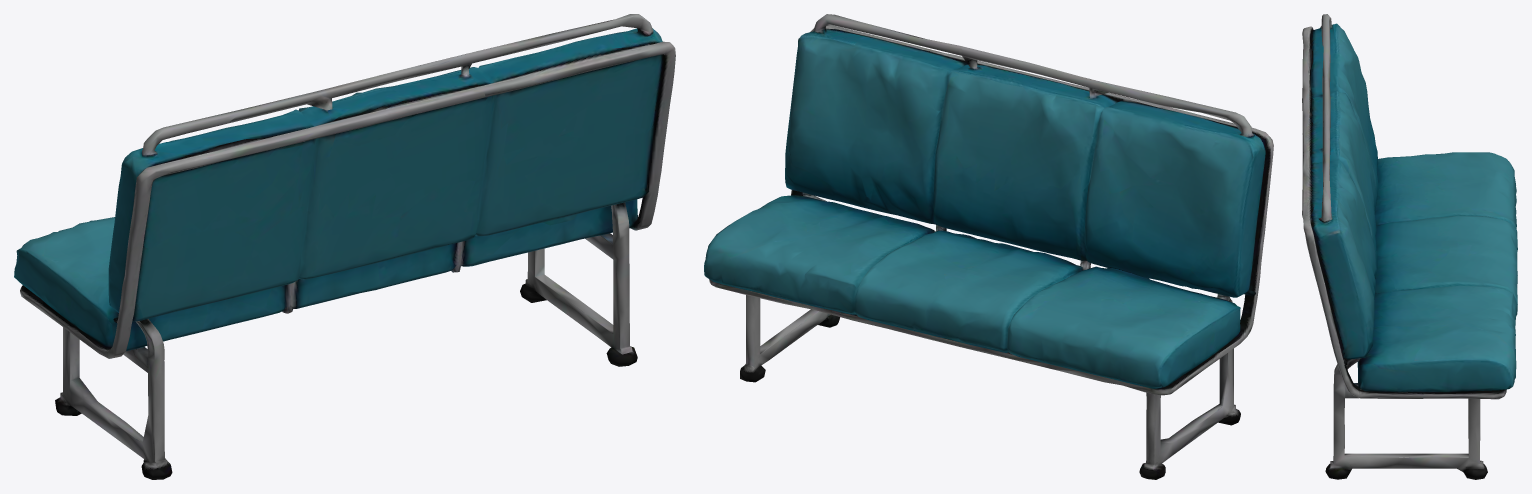
The model's file is bus-seat.glb.
3 views of the same model, side by side, from view 1: azimuth 30°, elevation 25°; view 2: azimuth 150°, elevation 25°; view 3: azimuth 270°, elevation 25° (orthographic). The views are drawn at different scales.
Visible parts, largest first — view 1: tripo_node_4724bb8e-1861-4951-a9c8-d7d13eced73b; view 2: tripo_node_4724bb8e-1861-4951-a9c8-d7d13eced73b; view 3: tripo_node_4724bb8e-1861-4951-a9c8-d7d13eced73b.
Boxes of the visible parts, <box> form: tripo_node_4724bb8e-1861-4951-a9c8-d7d13eced73b: <box>14,14,675,479</box>; tripo_node_4724bb8e-1861-4951-a9c8-d7d13eced73b: <box>704,14,1273,479</box>; tripo_node_4724bb8e-1861-4951-a9c8-d7d13eced73b: <box>1302,14,1517,479</box>.
Size of the model in its own units: 1 by 0.6228 by 0.4356.
1 material, 1 textured.
